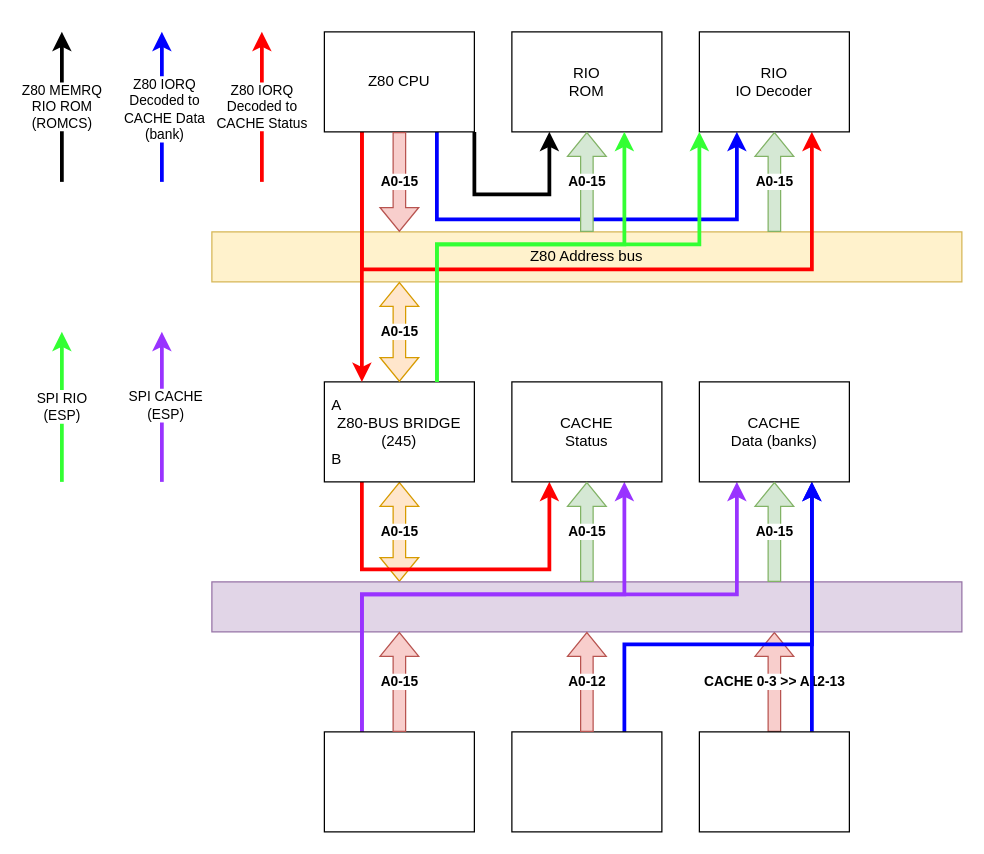
This 984x854 diagram has some shape labels left out. Here are the shapes that lost their labels. From the top down, the box of each, then its label:
(211, 581, 962, 632): Local Address bus
(323, 731, 474, 832): SPI (595)
(511, 731, 662, 832): COUNTERS (590)
(698, 731, 849, 832): RIO Decoder gate (245)
